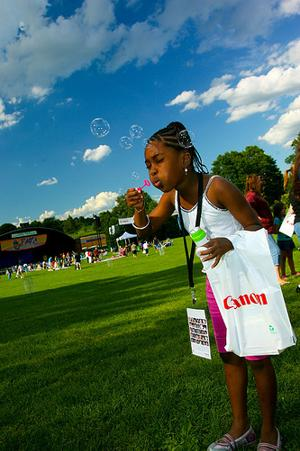person: (125, 117, 299, 451)
